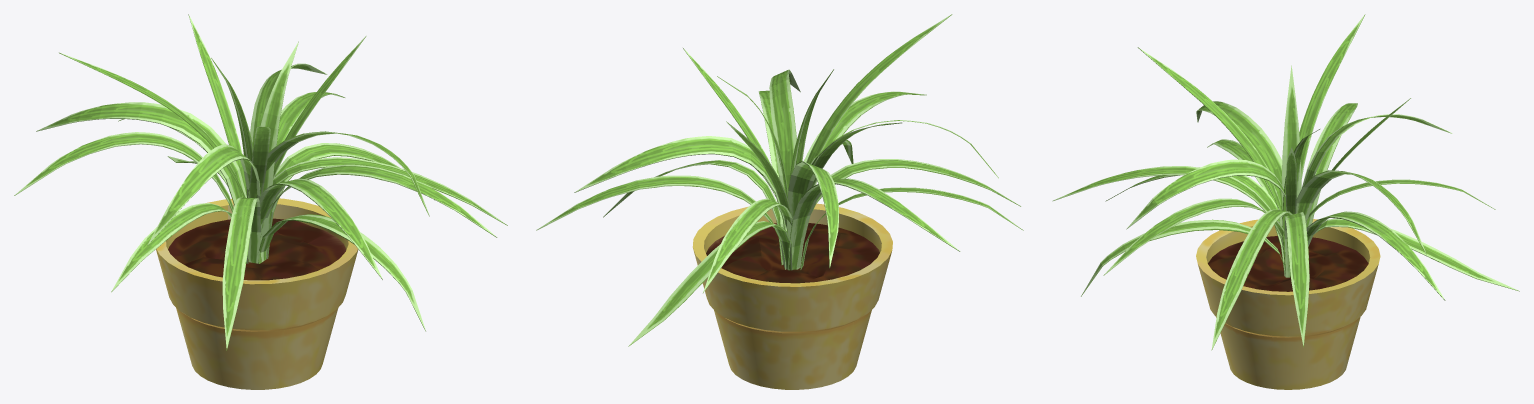
The model's file is Chlorophytum_good_end.glb.
3 renders of one model, left to right at view 1: azimuth 30°, elevation 25°; view 2: azimuth 150°, elevation 25°; view 3: azimuth 270°, elevation 25°, orthographic. The views are drawn at different scales.
Visible parts, largest first — view 1: Cube.013, Pot; view 2: Cube.013, Pot; view 3: Cube.013, Pot.
Boxes of the visible parts, x1,y1,x2,y2 form: Cube.013: (14, 14, 507, 350); Pot: (156, 198, 358, 389); Cube.013: (536, 14, 1023, 346); Pot: (692, 203, 892, 389); Cube.013: (1052, 14, 1519, 350); Pot: (1196, 219, 1380, 389).
Size of the model in its own units: 4.77 by 3.47 by 5.19.
22 materials, 22 textured.
